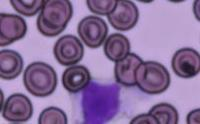L: (72, 77, 135, 124)
